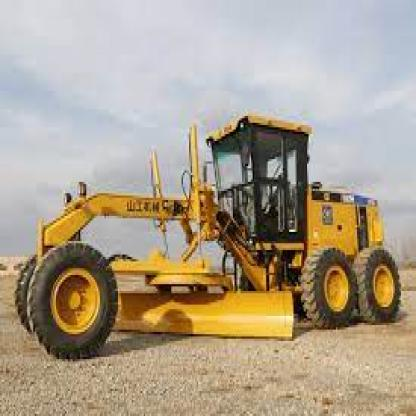bull_dozer/loader/grader: (12, 100, 404, 361)
